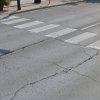Crosswalk: (4, 11, 99, 60)
